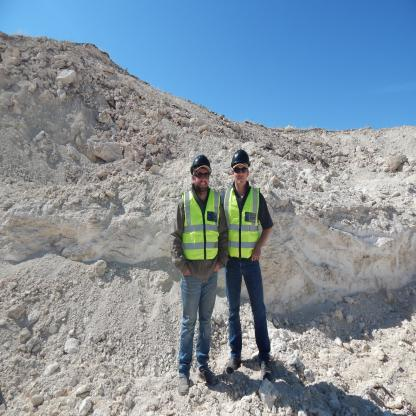person: (169, 126, 226, 398), (224, 148, 285, 387)
